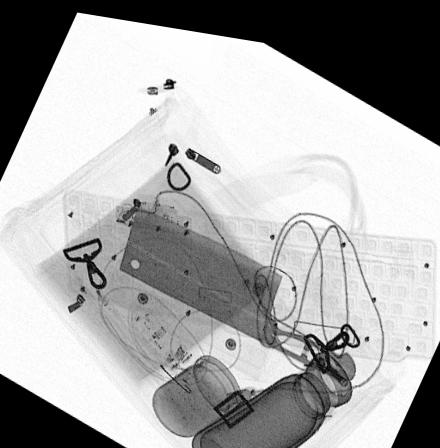Knife: (116, 199, 356, 371)
